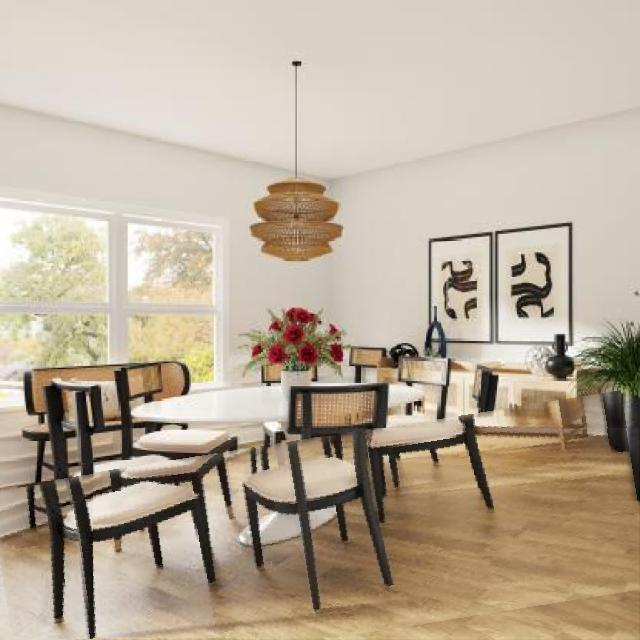floor: (94, 429, 639, 639), (0, 523, 89, 640)
